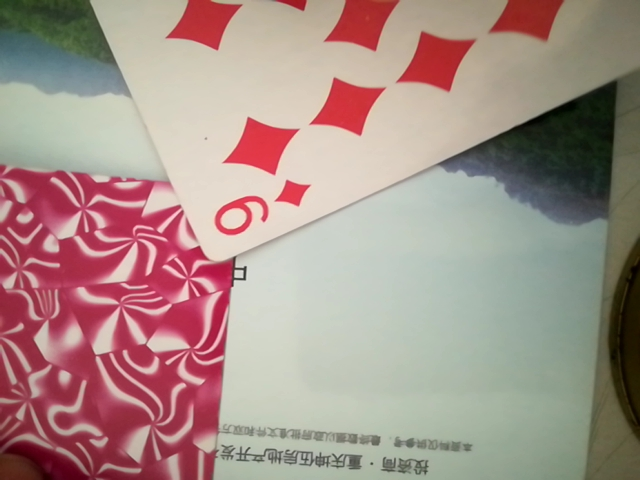fk 9: (73, 0, 640, 261)
